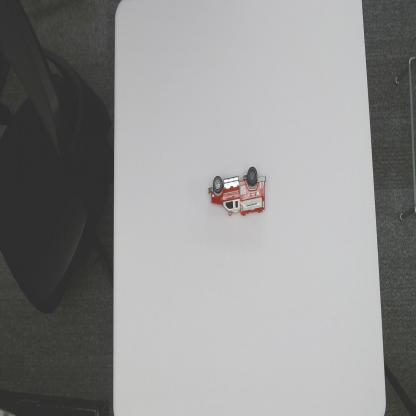Firetruck: (207, 165, 267, 218)
